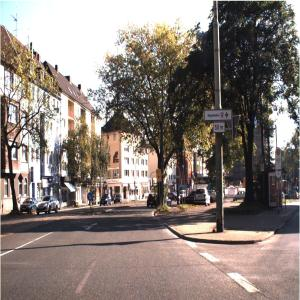keep right: (88, 193, 94, 203)
